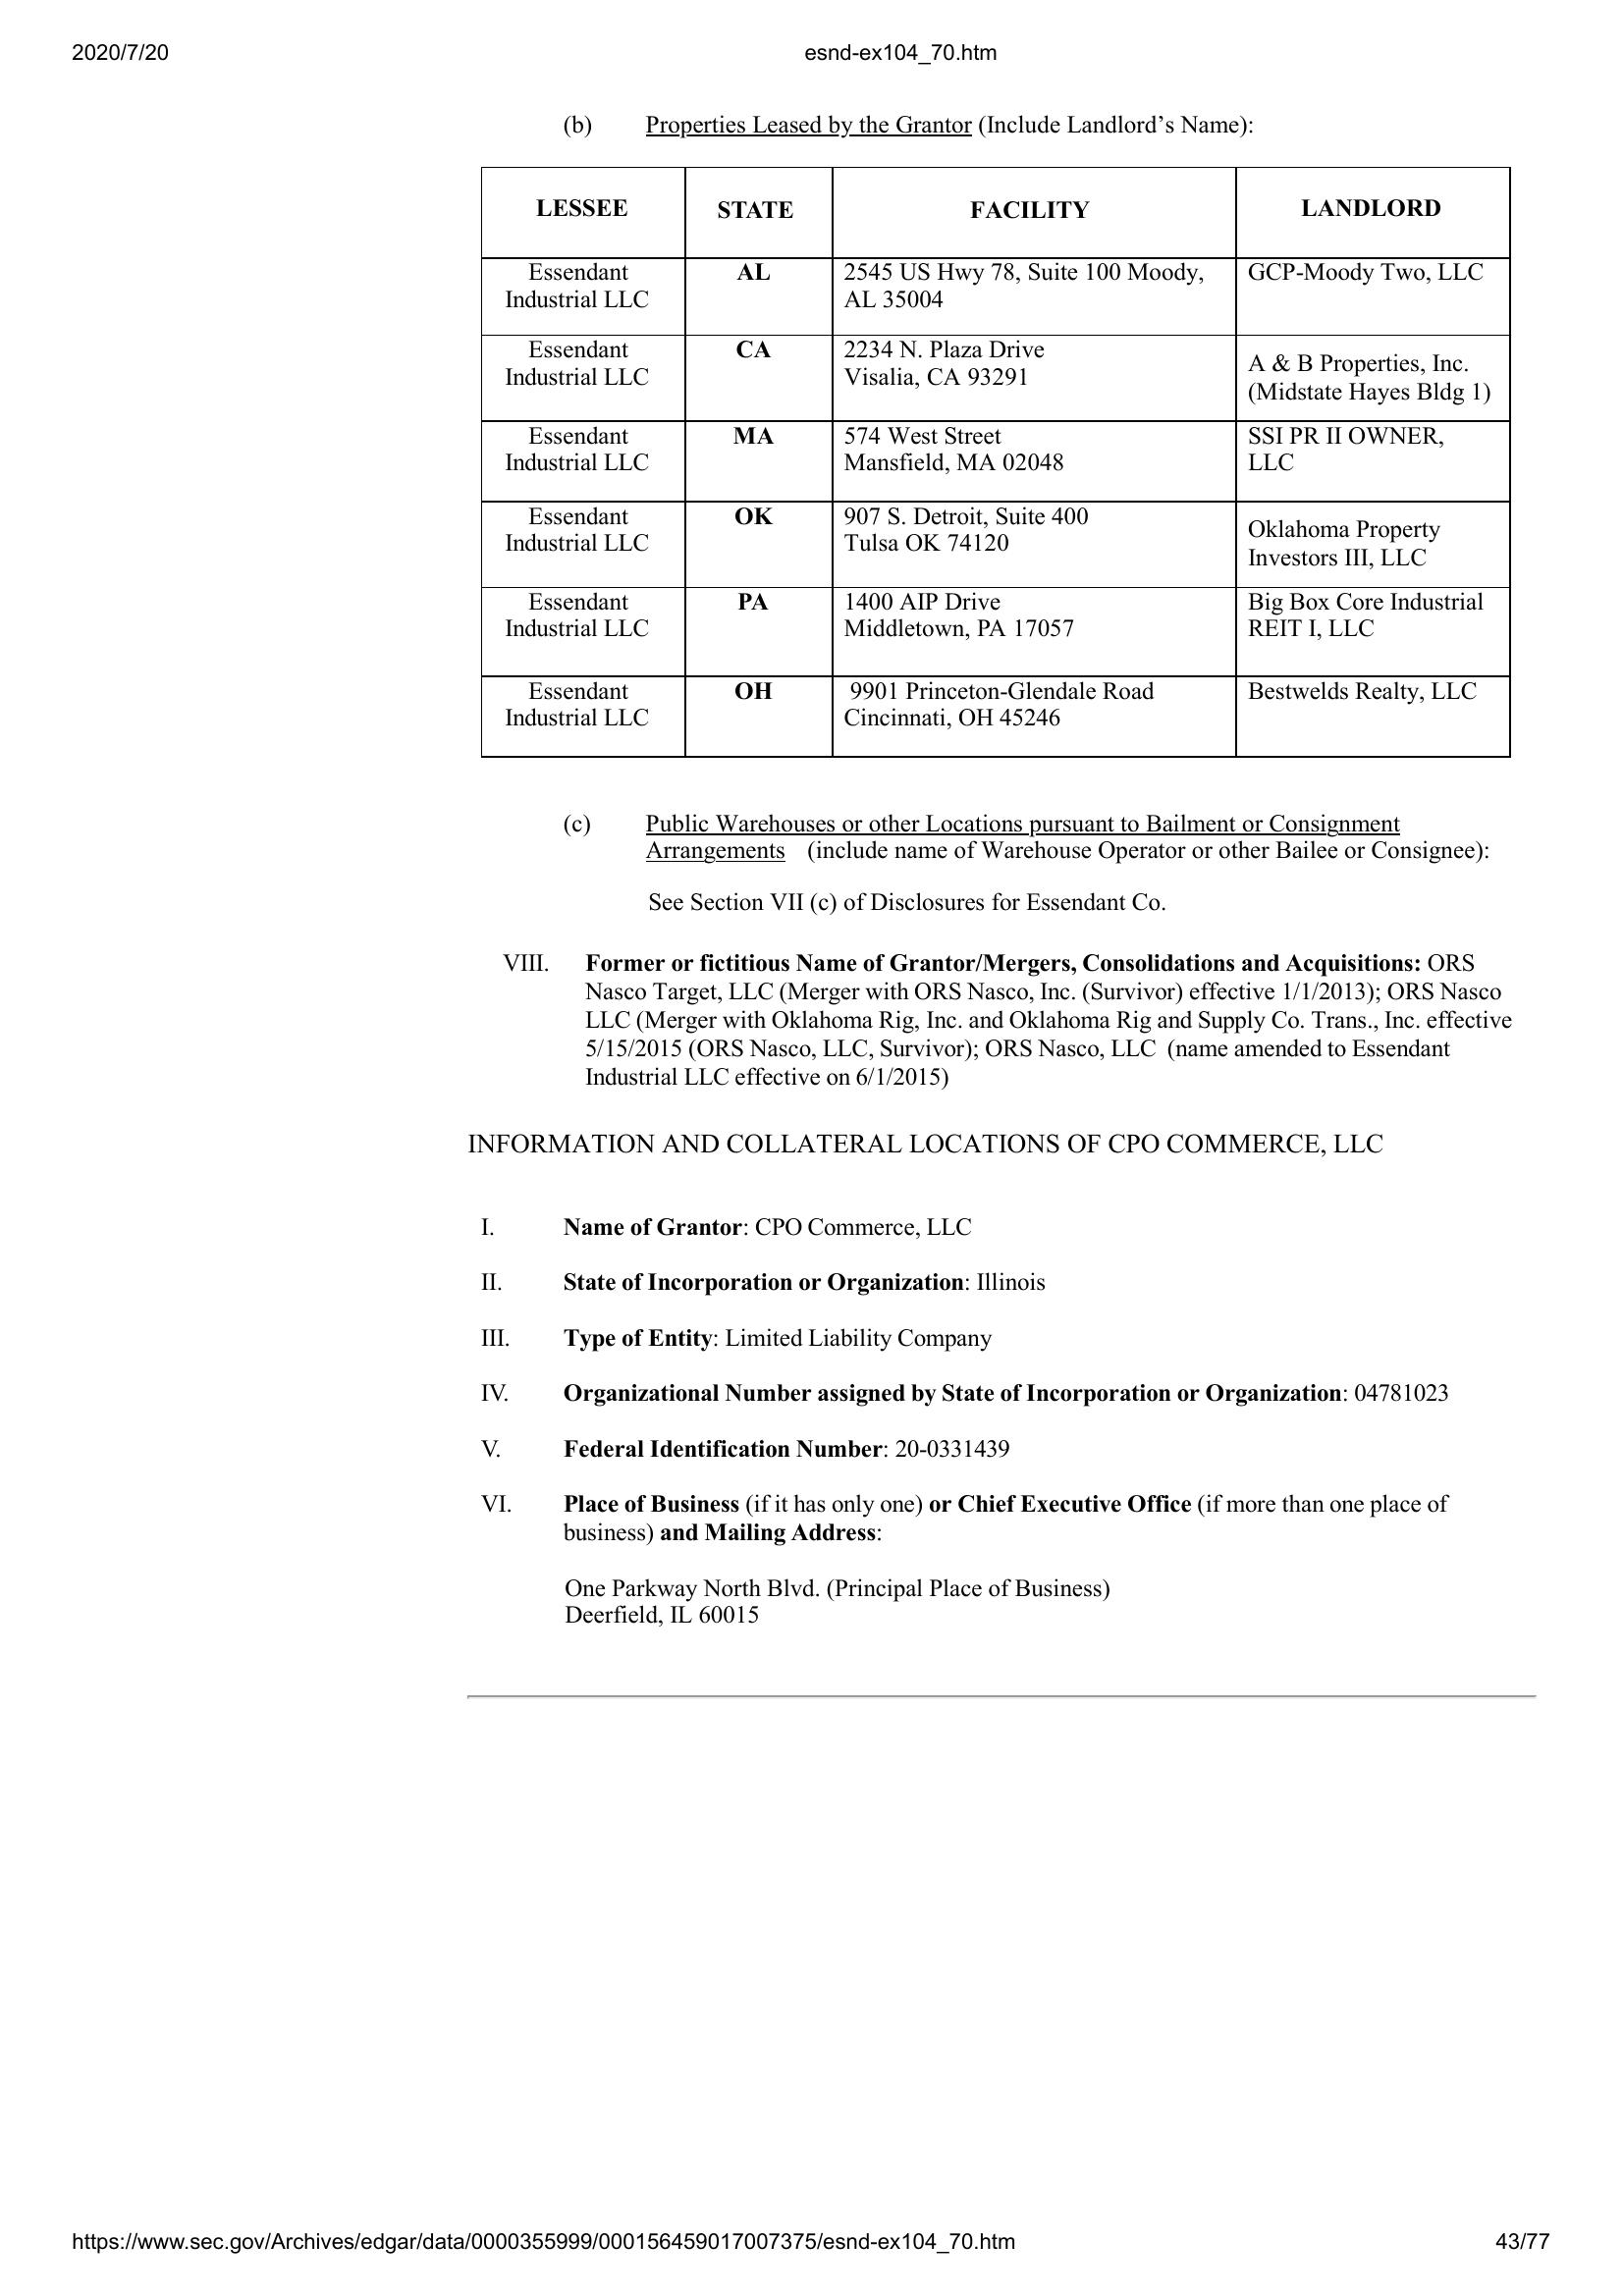table: (478, 167, 1516, 758)
